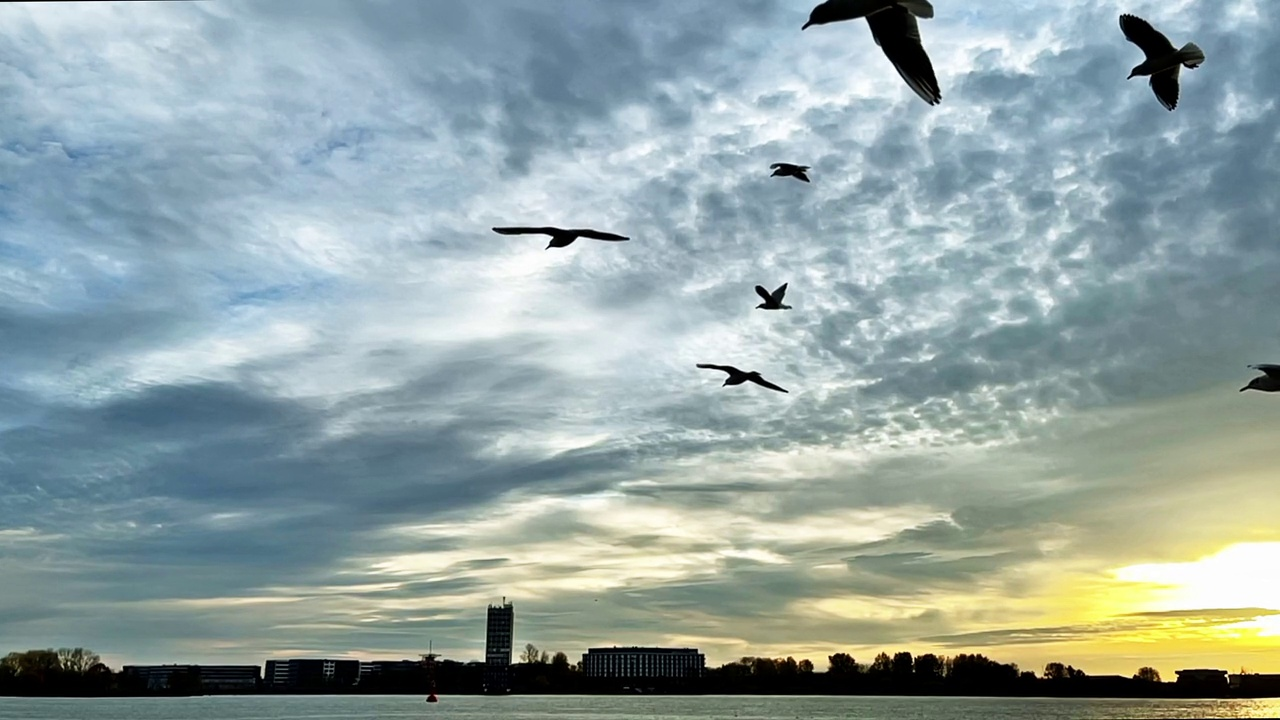bird: (803, 1, 944, 106), (1119, 12, 1206, 111), (491, 225, 630, 251), (695, 360, 787, 393), (754, 282, 794, 311), (768, 164, 811, 184)
